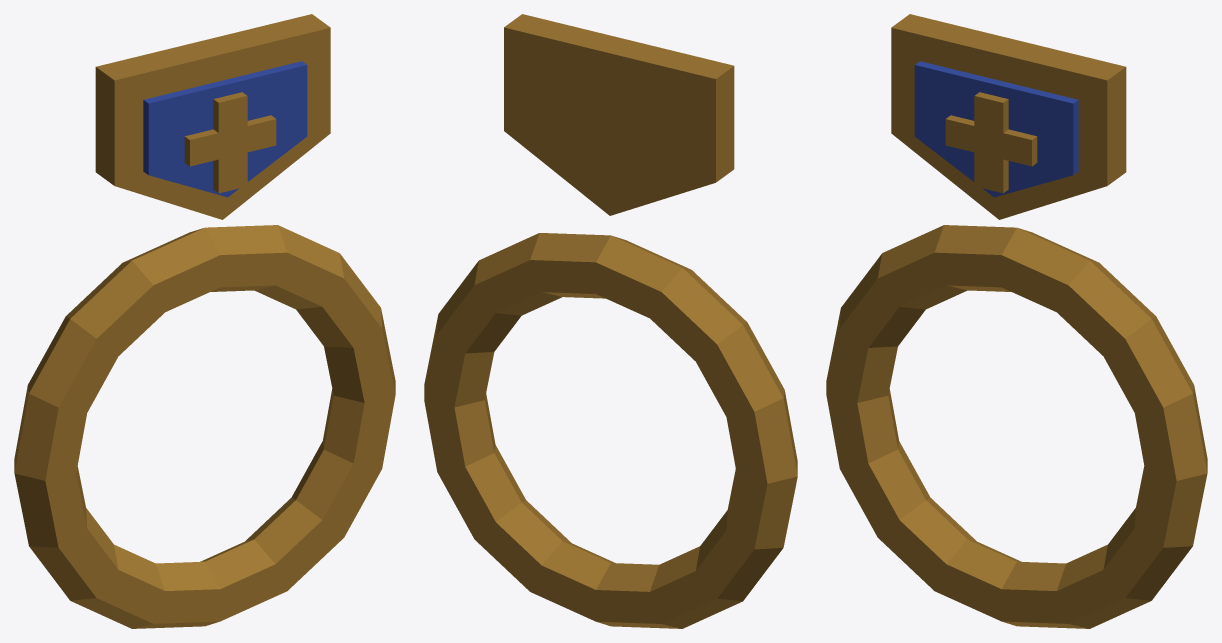
File: protect_ring.obj
3 renders of one model, left to right at view 1: azimuth 30°, elevation 25°; view 2: azimuth 150°, elevation 25°; view 3: azimuth 330°, elevation 25°, orthographic.
Visible parts, largest first — view 1: A_Band.001_protect_ring_metal, C_Shield.001_protect_ring_metal, D_Field.001_protect_ring_stone, E_Cross.001_protect_ring_metal; view 2: A_Band.001_protect_ring_metal, C_Shield.001_protect_ring_metal; view 3: A_Band.001_protect_ring_metal, C_Shield.001_protect_ring_metal, D_Field.001_protect_ring_stone, E_Cross.001_protect_ring_metal.
Part boxes in pixels (x1=…): A_Band.001_protect_ring_metal: x1=14, y1=225, x2=395, y2=628; C_Shield.001_protect_ring_metal: x1=95, y1=14, x2=330, y2=219; D_Field.001_protect_ring_stone: x1=143, y1=61, x2=307, y2=197; E_Cross.001_protect_ring_metal: x1=184, y1=92, x2=276, y2=193; A_Band.001_protect_ring_metal: x1=424, y1=233, x2=797, y2=628; C_Shield.001_protect_ring_metal: x1=504, y1=14, x2=734, y2=215; A_Band.001_protect_ring_metal: x1=826, y1=225, x2=1207, y2=628; C_Shield.001_protect_ring_metal: x1=891, y1=14, x2=1126, y2=219; D_Field.001_protect_ring_stone: x1=914, y1=61, x2=1078, y2=197; E_Cross.001_protect_ring_metal: x1=945, y1=92, x2=1037, y2=193.
Size of the model in its own units: 1.48 by 2.17 by 0.2929.
